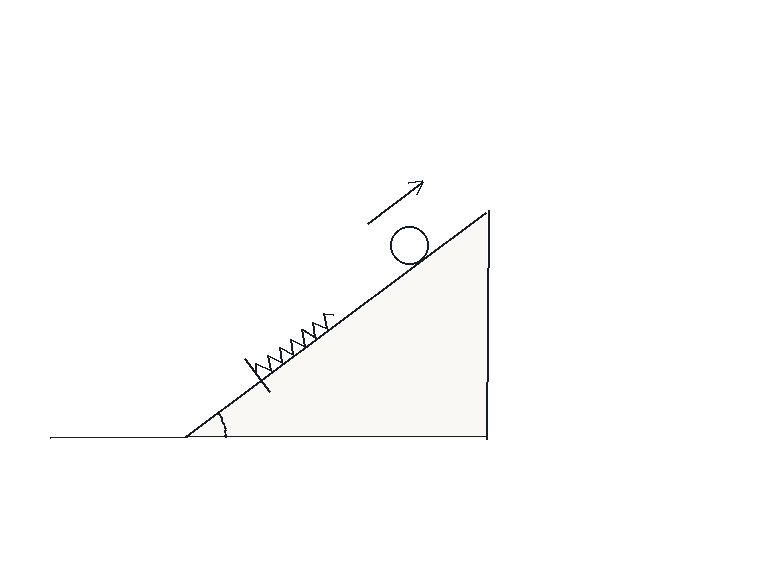ball: (388, 224, 430, 266)
ramp: (184, 209, 488, 439)
spring: (254, 311, 336, 375)
